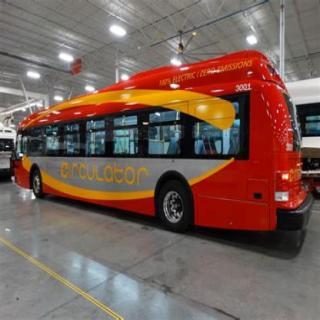Normal_vehicle: (11, 41, 317, 257)
